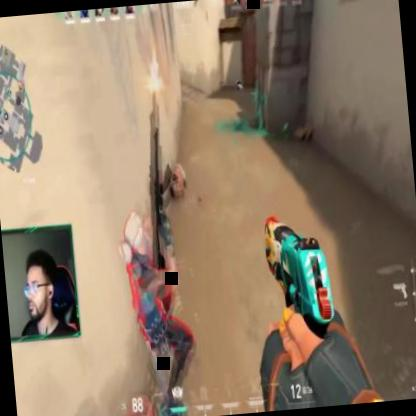enemy: (117, 207, 200, 416)
enemy_head: (118, 210, 147, 258)
